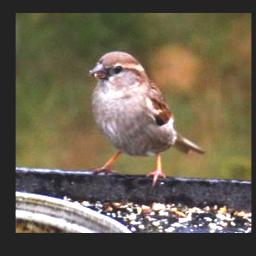Sparrow: (86, 49, 205, 189)
